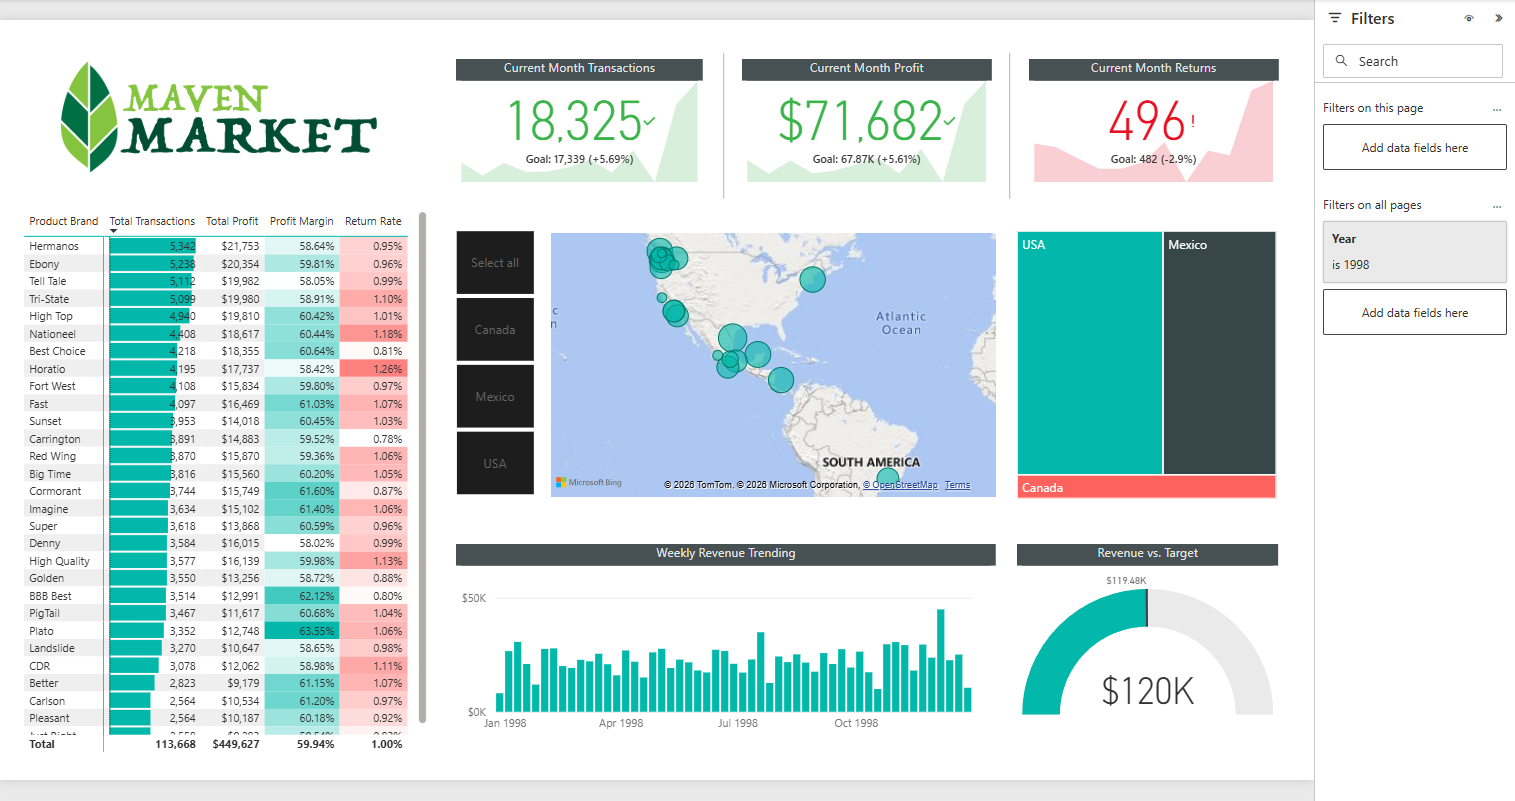

The dashboard page shown, as its layout file describes it:
{"tool":"powerbi","page":{"name":"Topline Performance","canvas":[1280,720],"ordinal":0},"visuals":[{"type":"image","box":[40,7.5,346.6,132.7],"z":0},{"type":"pivotTable","fields":{"Values":["Transaction_Data.Total Transactions","Transaction_Data.Total Profit","Transaction_Data.Profit Margin","Return_Data.Return Rate"],"Rows":["Products.product_brand"]},"box":[20.6,161.3,401.5,536],"z":1000},{"type":"kpi","title":"Current Month Transactions","fields":{"TrendLine":["Calendar.Start of Month"],"Goal":["Transaction_Data.Last Month Transactions"],"Indicator":["Transaction_Data.Total Transactions"]},"box":[445.9,19,240.2,124.7],"z":2000},{"type":"kpi","title":"Current Month Profit","fields":{"TrendLine":["Calendar.Start of Month"],"Goal":["Transaction_Data.Last Month Profit"],"Indicator":["Transaction_Data.Total Profit"]},"box":[723.3,19,242.5,124.7],"z":3000},{"type":"kpi","title":"Current Month Returns","fields":{"TrendLine":["Calendar.Start of Month"],"Goal":["Return_Data.Last Month Returns"],"Indicator":["Return_Data.Total Returns"]},"box":[1003,19,242.5,124.7],"z":4000},{"type":"map","fields":{"Category":["Stores.store_city"],"Size":["Transaction_Data.Total Transactions"]},"box":[532.8,182.5,442.7,266.5],"z":5000},{"type":"slicer","fields":{"Values":["Stores.store_country"]},"box":[420.5,178.9,124.7,270],"z":6000},{"type":"columnChart","title":"Weekly Revenue Trending","fields":{"Category":["Calendar.Start of Week"],"Y":["Transaction_Data.Total Revenue"]},"box":[445.9,490,525.3,192.2],"z":7000},{"type":"gauge","title":"Revenue vs. Target","fields":{"Y":["Transaction_Data.Total Revenue"],"TargetValue":["Transaction_Data.Revenue Target"]},"box":[991.1,490,254.4,171.6],"z":8000},{"type":"basicShape","box":[671.7,2.9,67.5,161.3],"z":9000},{"type":"basicShape","box":[950.3,2.9,67.5,161.3],"z":10000},{"type":"treemap","fields":{"Group":["Stores.store_country","Stores.store_state","Stores.store_city"],"Values":["Transaction_Data.Total Transactions"]},"box":[985.8,181.4,261.9,270],"z":11000}]}

Visuals, with their boxes on the page's 1280x720 design canvas (x1, y1, x2, y2). These are canvas units, not pixel positions in the 1515x801 screenshot, which may show the page scaled, cropped or inside an application window:
image: 40,8,387,140
pivotTable - Transaction_Data.Total Transactions x Transaction_Data.Total Profit: 21,161,422,697
"Current Month Transactions" kpi: 446,19,686,144
"Current Month Profit" kpi: 723,19,966,144
"Current Month Returns" kpi: 1003,19,1246,144
map - Stores.store_city x Transaction_Data.Total Transactions: 533,182,976,449
slicer - Stores.store_country: 420,179,545,449
"Weekly Revenue Trending" columnChart: 446,490,971,682
"Revenue vs. Target" gauge: 991,490,1246,662
basicShape: 672,3,739,164
basicShape: 950,3,1018,164
treemap - Stores.store_country x Stores.store_state: 986,181,1248,451
